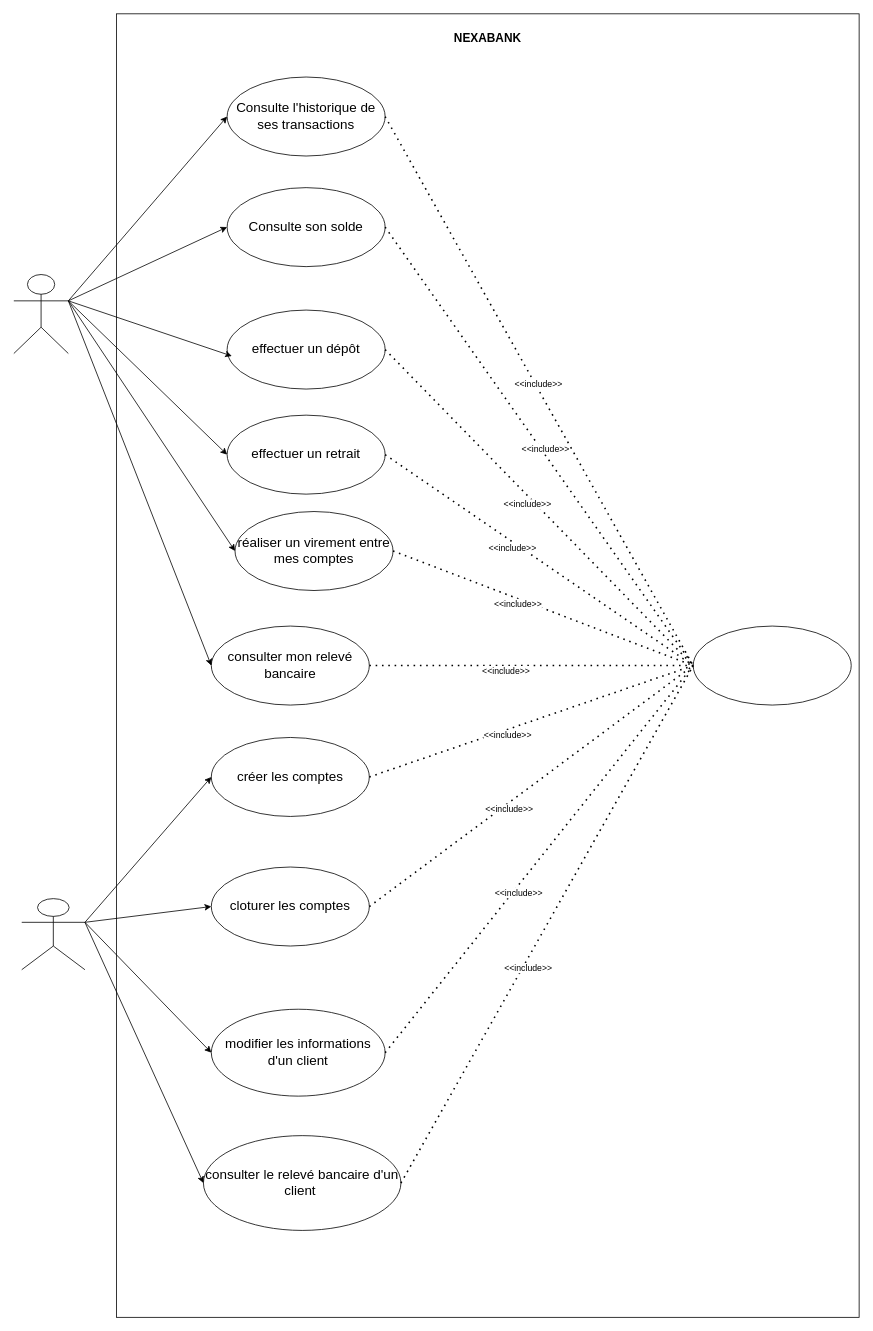
Some shapes in this 873 by 1331 pixel diagram are drawn without their labels. Here are the shapes that lost their labels. From the top down, the centre of each, then its label:
At [40,314]: "Client".
At [771,665]: "S'authentifier".
At [53,934]: "Gestionnaire".
